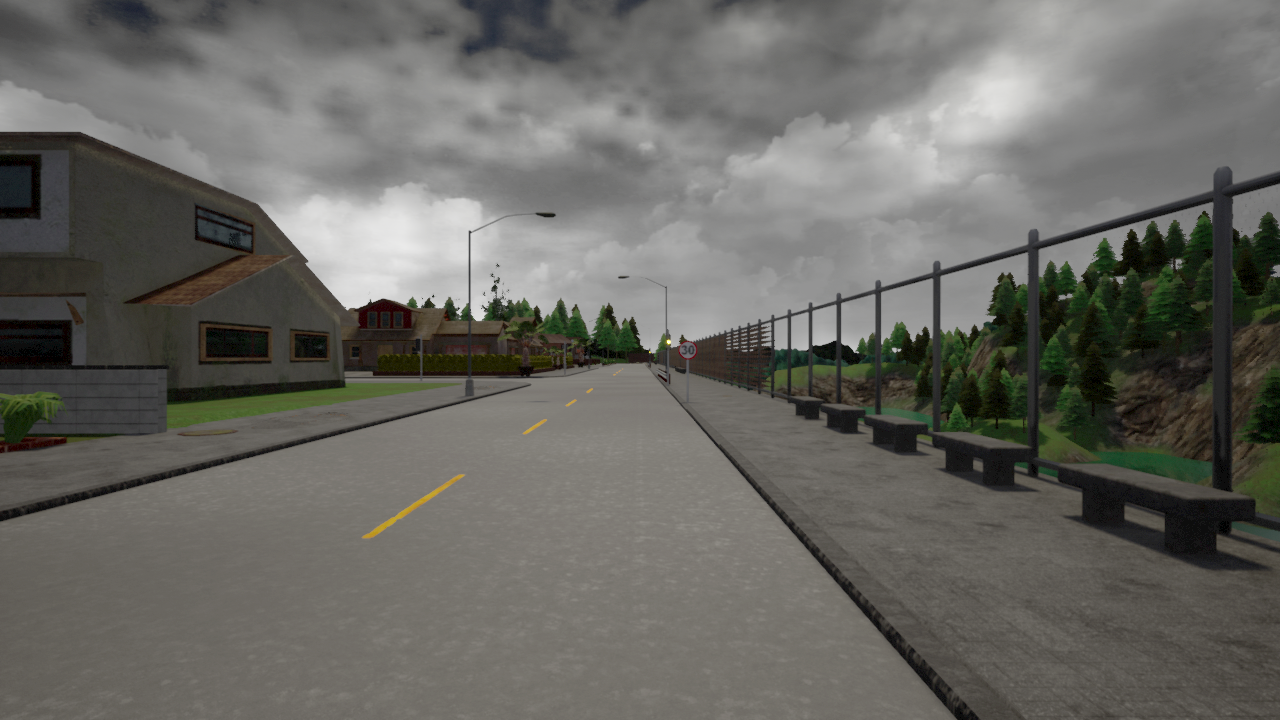yellow: (665, 334, 671, 351)
